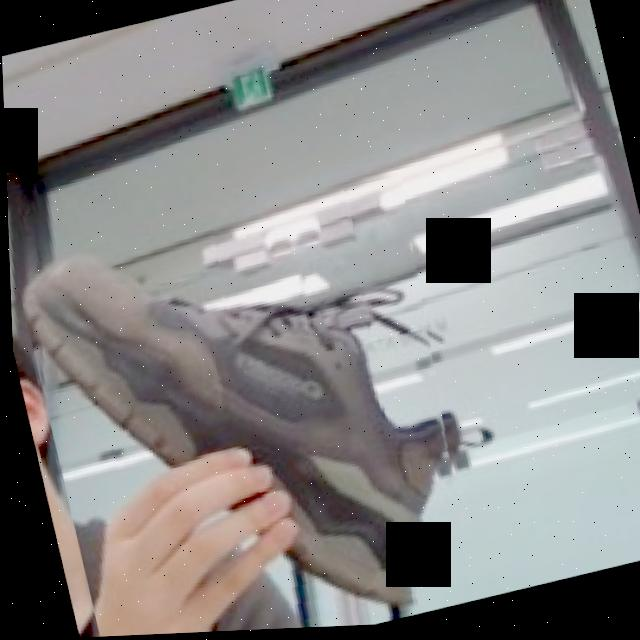shoe: (8, 169, 495, 640)
